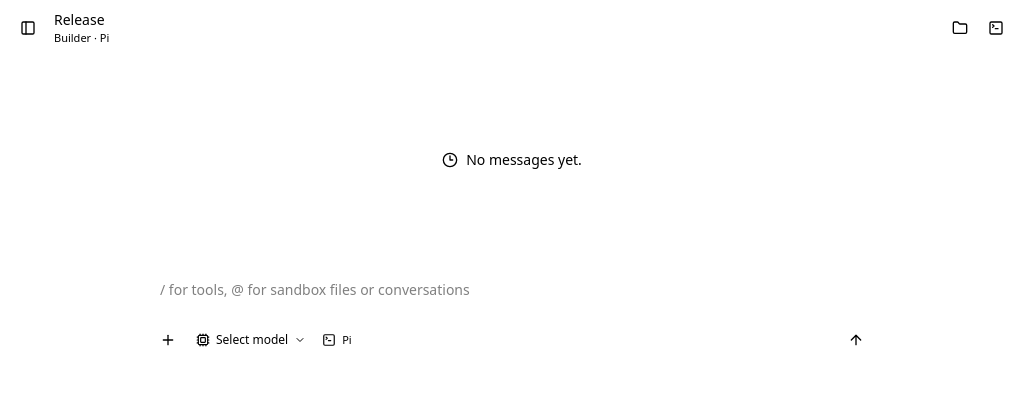
Test: Work attachment transaction failures › rejects invalid Work command /new without losing the text
The width and height of the screenshot is (1020, 396).
Type "/new" into the dropdown named "What should the Agent accomplish?" at (512, 296), box [152,272,872,320]
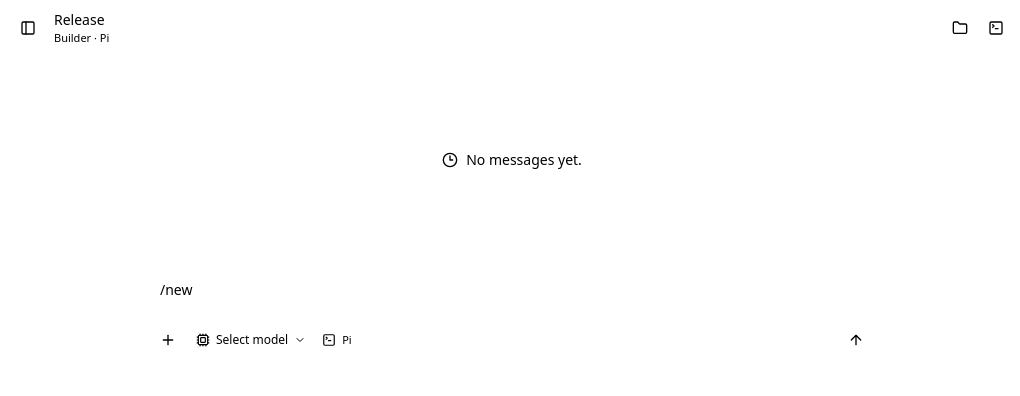
Click the button named "Send prompt" at (856, 340), box [840,324,872,356]
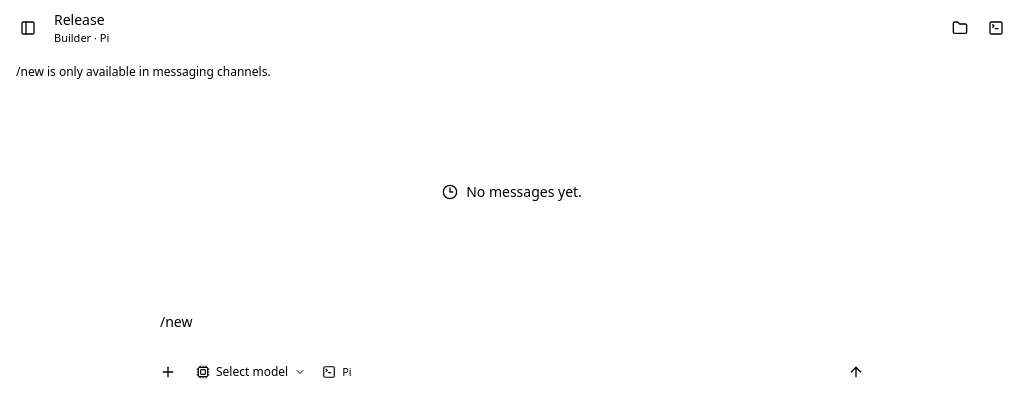
Expected: the text "/new is only available in messaging channels." is shown, [16,63,271,80]
